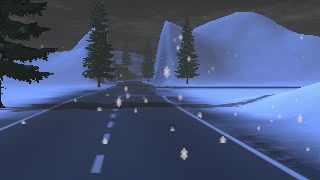Lane: (0, 80, 304, 179)
